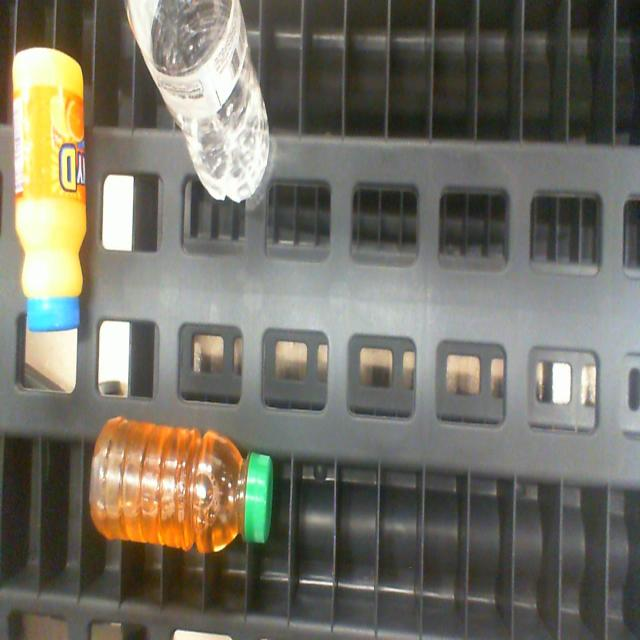drink: (242, 457, 275, 541), (26, 296, 78, 332)
